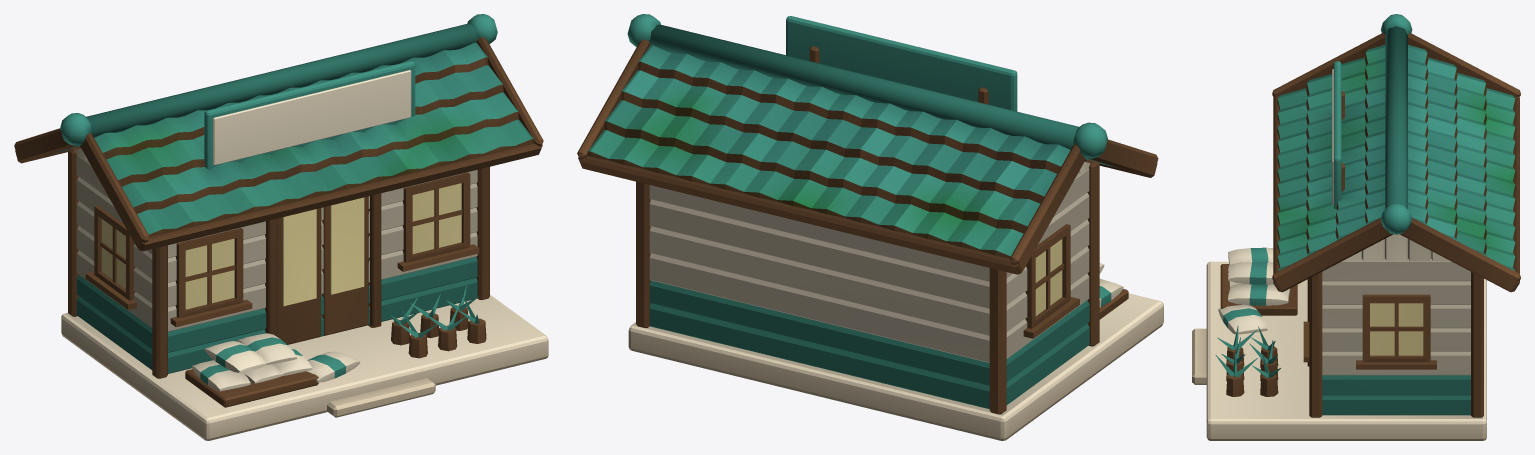
The model's file is toko.glb.
3 views of the same model, side by side, from view 1: azimuth 30°, elevation 25°; view 2: azimuth 150°, elevation 25°; view 3: azimuth 270°, elevation 25° (orthographic). The views are drawn at different scales.
Parts seen in each view (by area): view 1: toko_mesh, SignBoard; view 2: toko_mesh; view 3: toko_mesh.
Part boxes in pixels (left/top/right/bottom): toko_mesh: left=14, top=14, right=548, bottom=440; SignBoard: left=213, top=70, right=411, bottom=165; toko_mesh: left=577, top=14, right=1163, bottom=440; toko_mesh: left=1192, top=14, right=1520, bottom=440.
Bounding box in the file's own units: 5.93 × 3.46 × 4.07.
